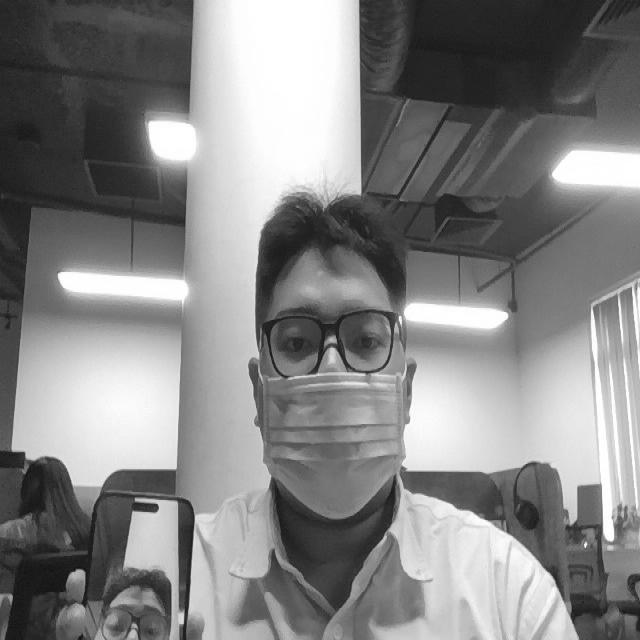fake: (255, 364, 409, 517), (73, 472, 201, 640), (95, 560, 177, 640)
real: (236, 170, 423, 548), (259, 303, 402, 375)
